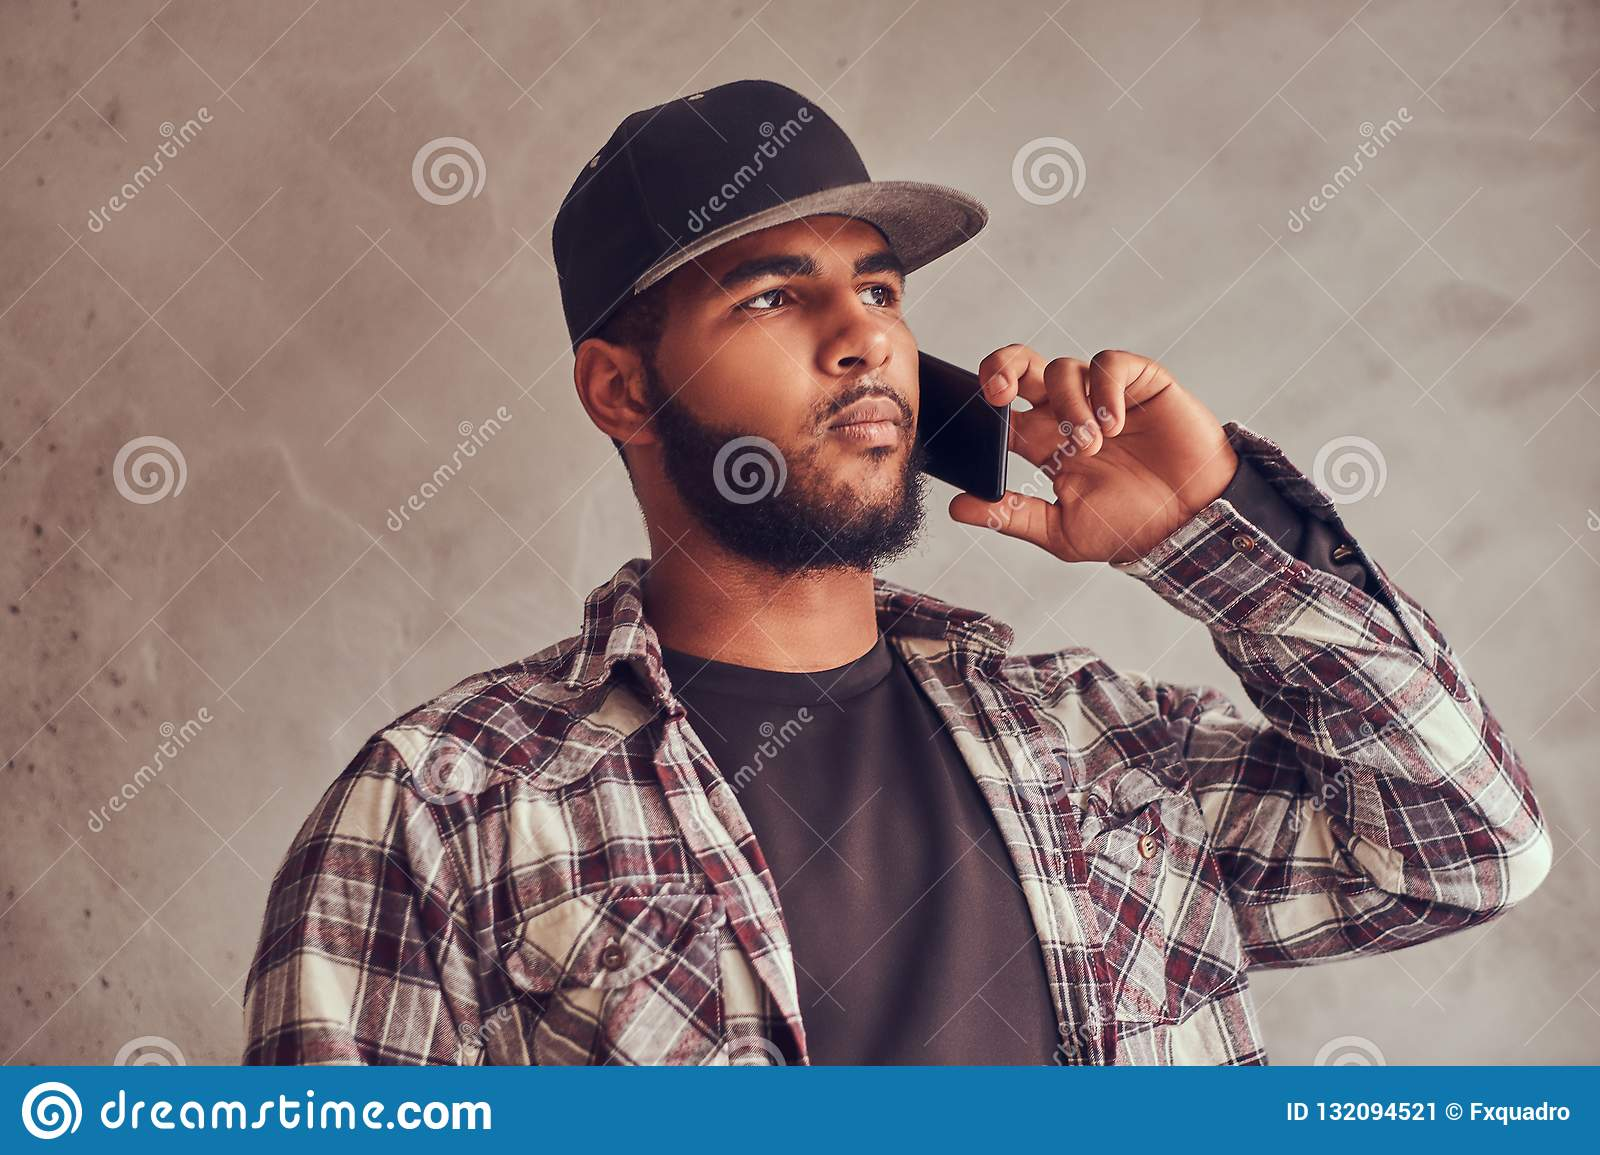phone: (914, 349, 1024, 508)
talk: (716, 243, 1205, 569)
